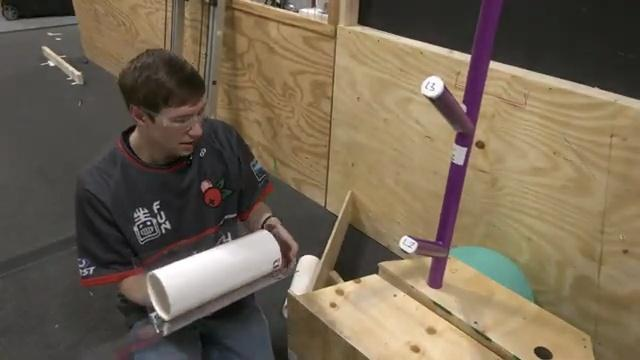CORAL: (145, 227, 282, 322)
